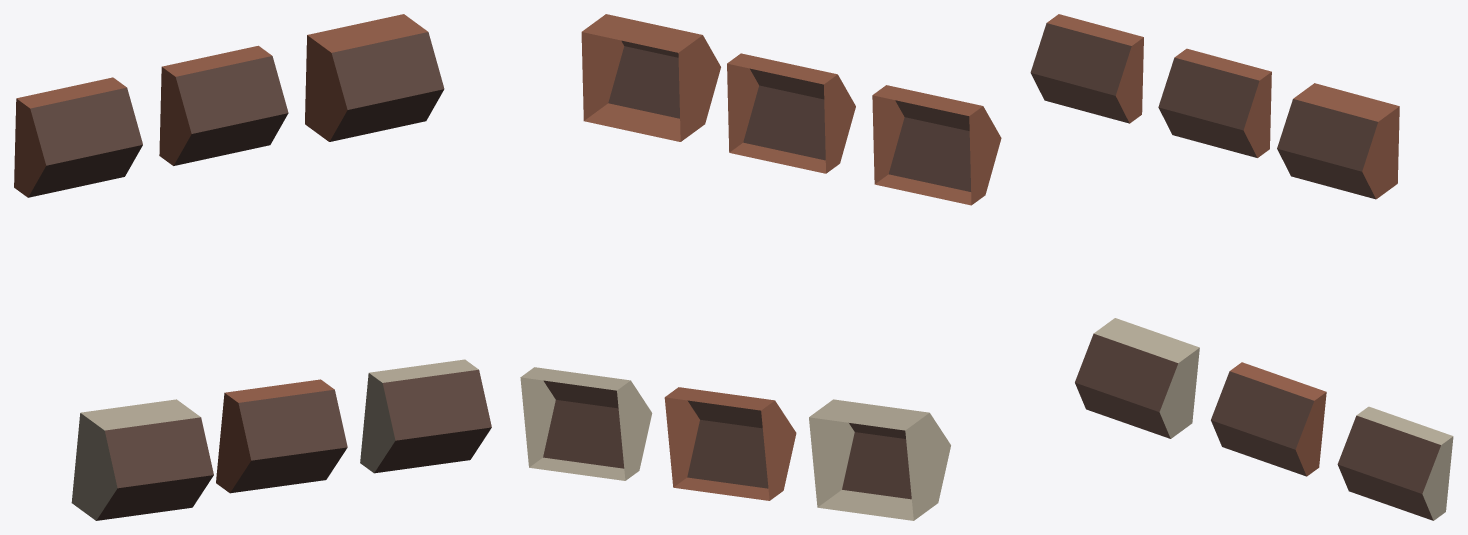
File: island_bldg_13_06.obj
3 views of the same model, side by side, from view 1: azimuth 30°, elevation 25°; view 2: azimuth 150°, elevation 25°; view 3: azimuth 330°, elevation 25° (orthographic). The views are drawn at different scales.
Parts seen in each view (by area): view 1: island_bldg_13_06; view 2: island_bldg_13_06; view 3: island_bldg_13_06.
Part boxes in pixels (bbox=[...]): island_bldg_13_06: bbox=[14, 14, 491, 520]; island_bldg_13_06: bbox=[520, 14, 1001, 520]; island_bldg_13_06: bbox=[1030, 14, 1453, 520].
Size of the model in its own units: 74.45 by 72.38 by 11.9.
